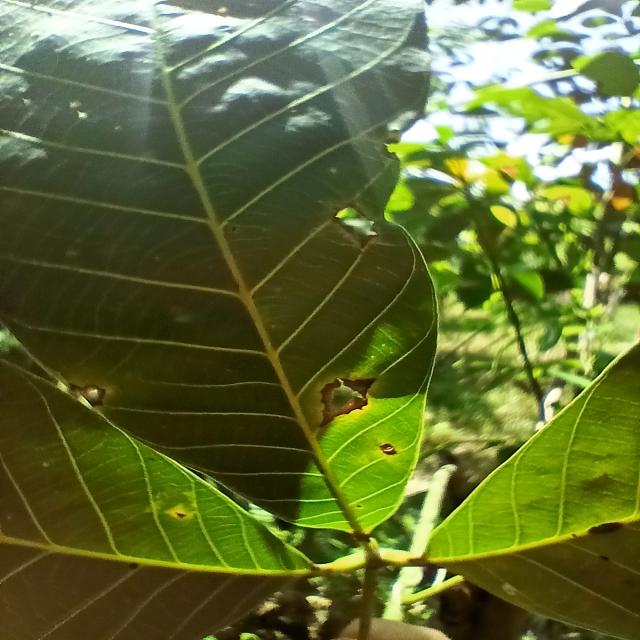Colletotrichum: (380, 443, 397, 455)
Leaf-Blight: (321, 380, 367, 424), (340, 377, 375, 399)
